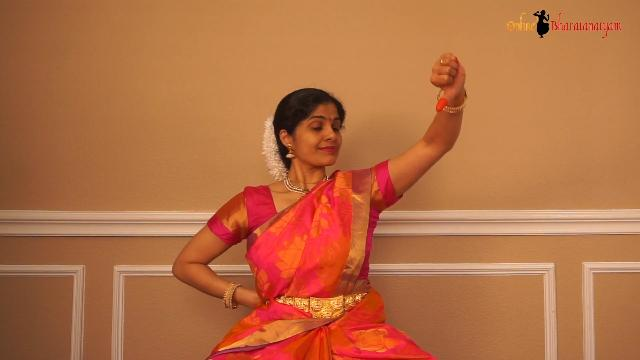shikhar: (412, 33, 494, 139)
